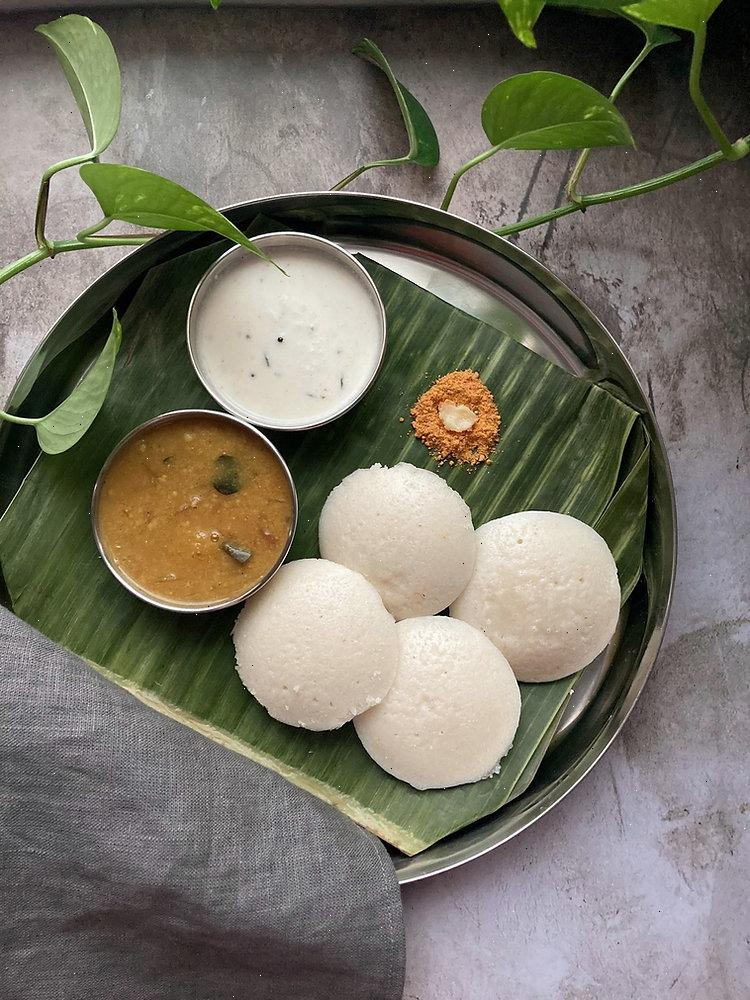coconut chutney: (178, 246, 377, 417)
idli: (281, 461, 602, 782)
sambhar: (91, 413, 287, 622)
